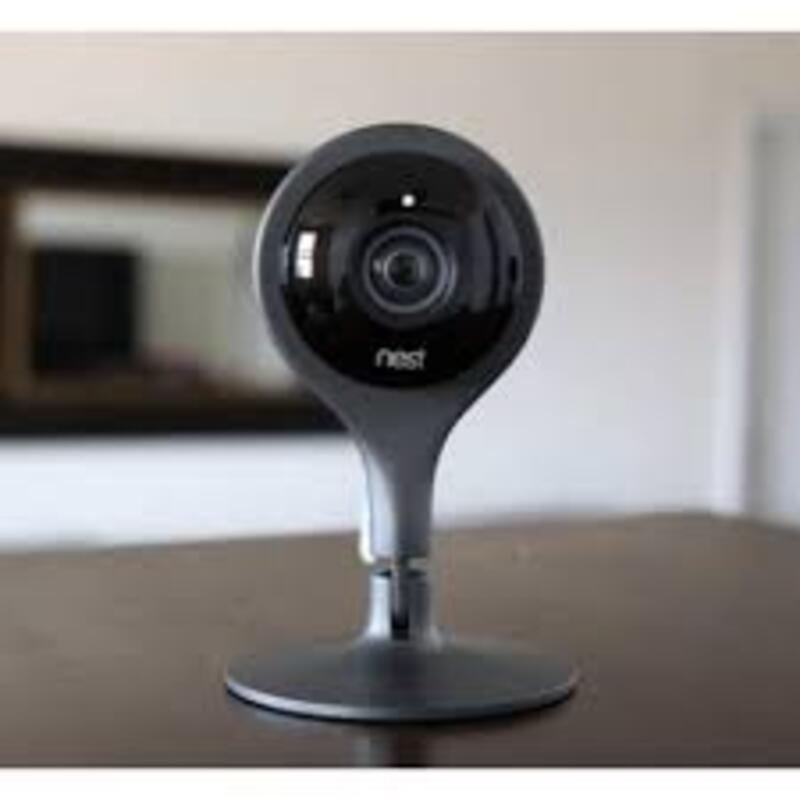nest: (249, 112, 553, 563)
